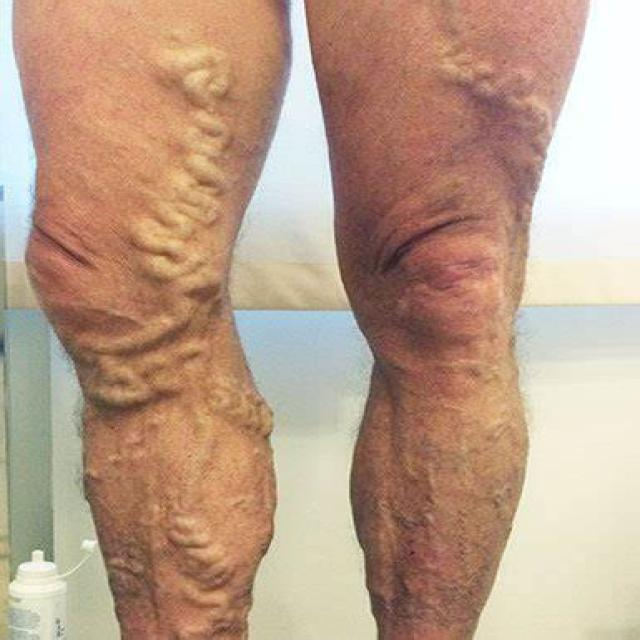Varicose: (100, 54, 301, 606)
